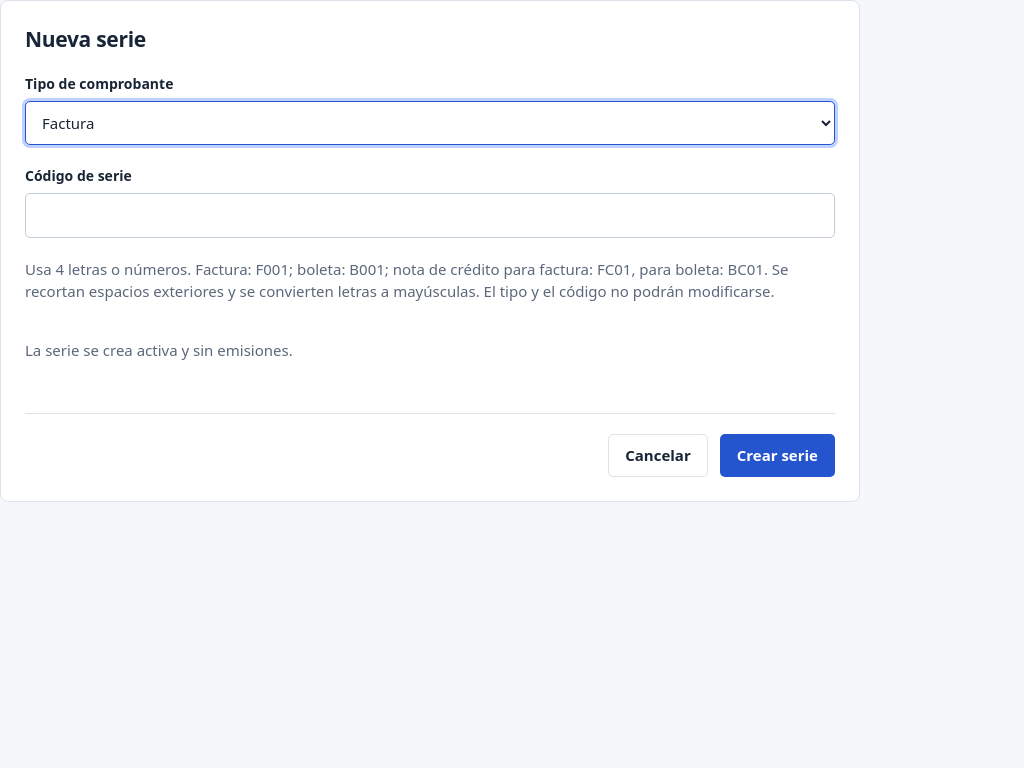
Test: muestra errores por campo sin perder valores
Type "F001" into the field labelled "Código de serie".
click(430, 216); type("F001")  # box top-left (25, 193), bottom-right (835, 238)
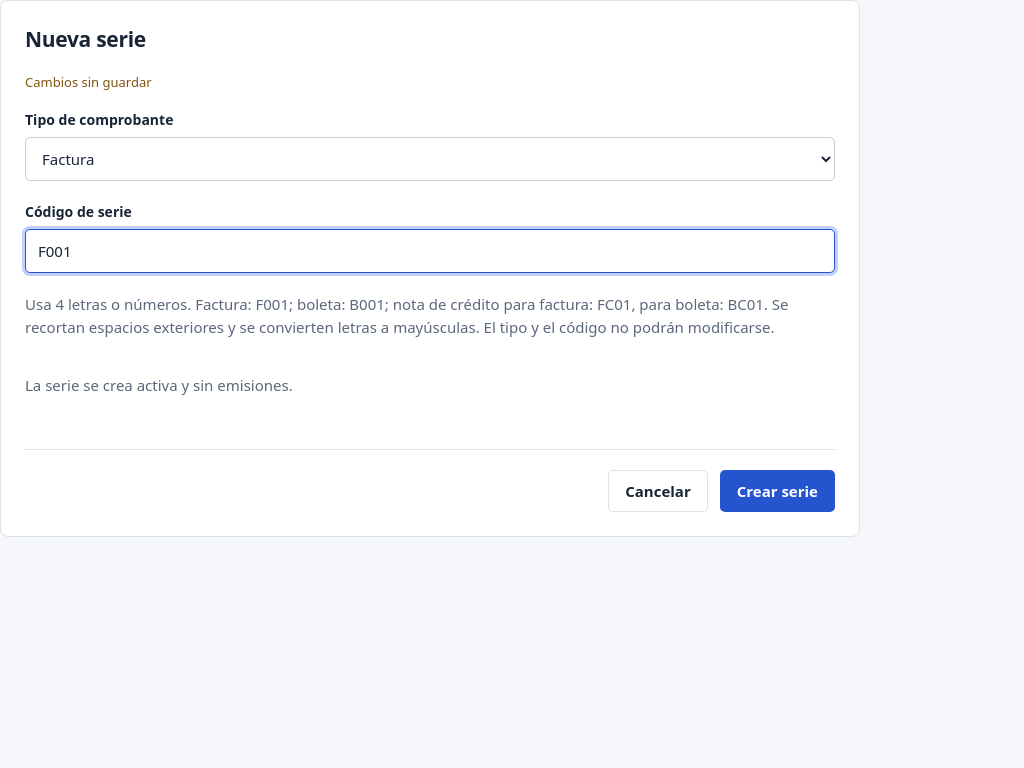
Click the button "Crear serie".
click(777, 491)  # box top-left (720, 470), bottom-right (835, 512)
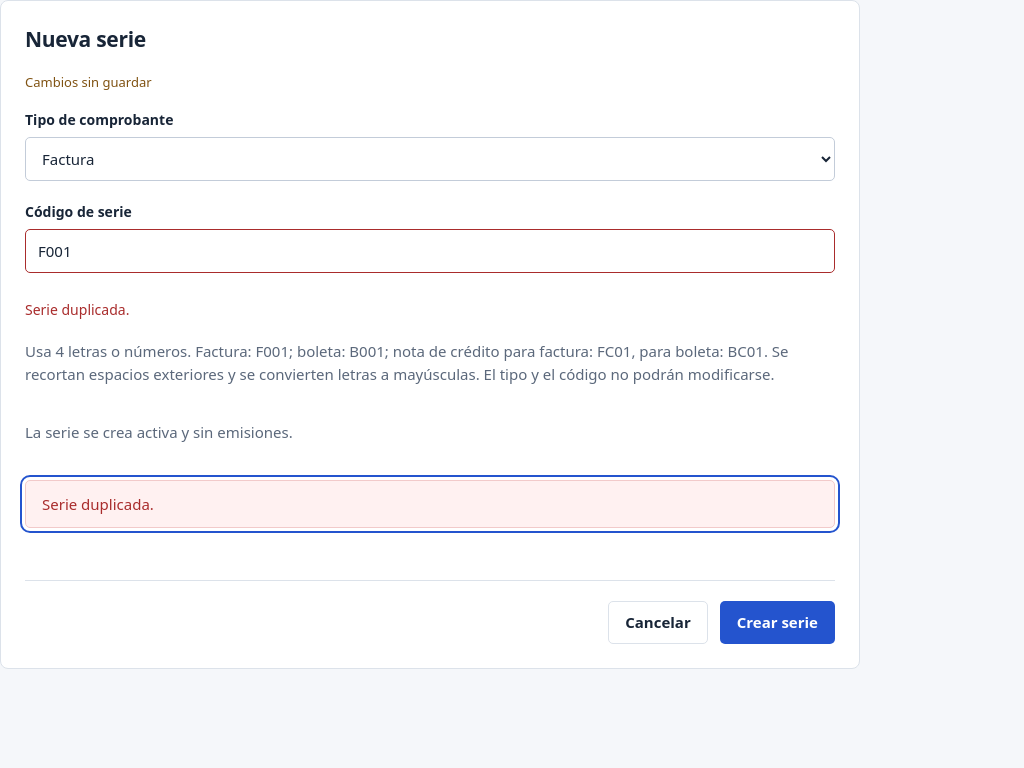
Now the message "Serie duplicada." is shown, box top-left (25, 480), bottom-right (835, 528)
